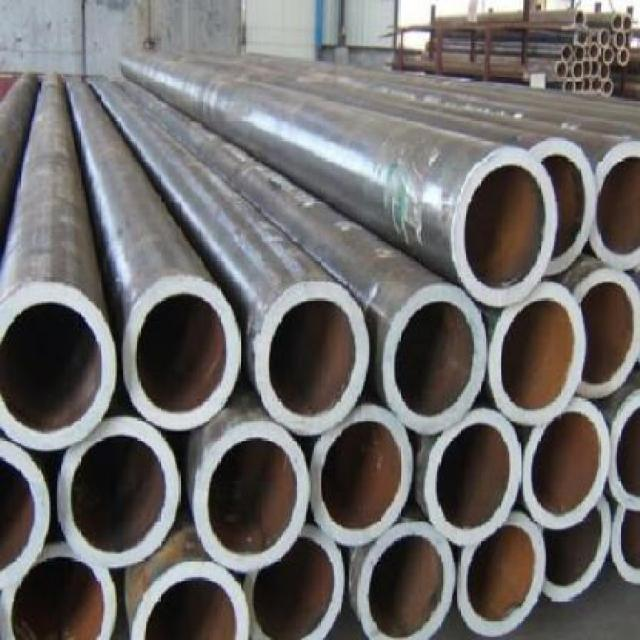pipe: (0, 278, 115, 449), (58, 417, 180, 568), (123, 277, 240, 431), (254, 280, 371, 434), (194, 422, 311, 573), (453, 148, 559, 307), (385, 283, 490, 434), (309, 406, 414, 548), (488, 283, 586, 425), (425, 410, 524, 545), (359, 519, 456, 639), (243, 526, 346, 639), (523, 402, 612, 530), (0, 543, 118, 638), (459, 514, 548, 636), (531, 136, 596, 276), (572, 268, 640, 401), (540, 499, 611, 604), (591, 138, 640, 271)
